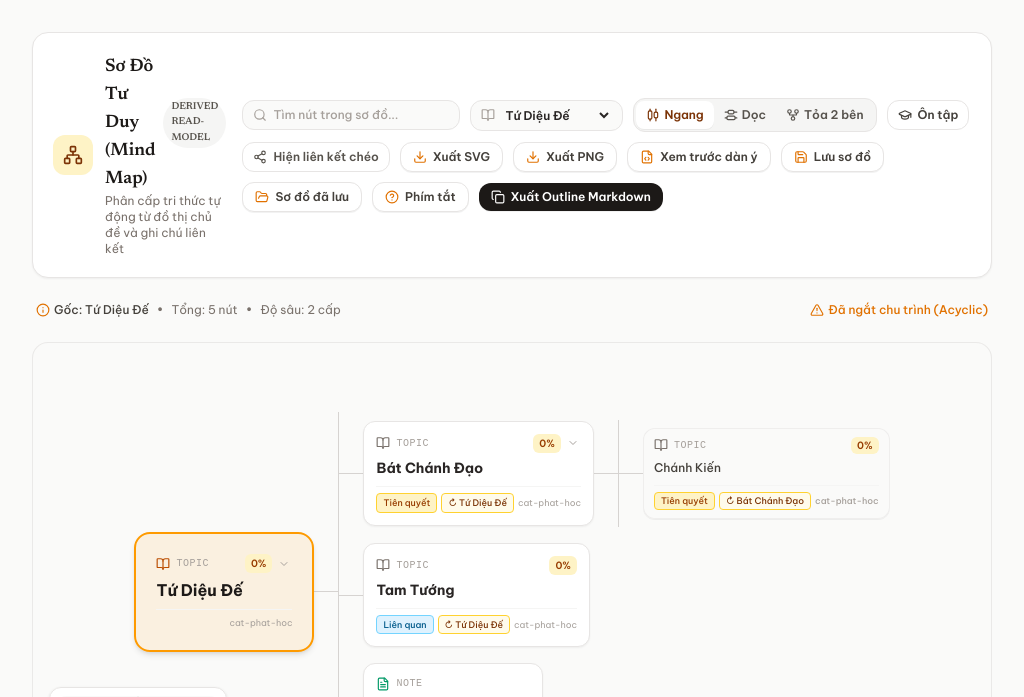
Mind Map Feature S1: In-Canvas Search & Node Highlight Filter › 2. MindMapView In-Canvas Search Toolbar & Highlight Lifecycle › Scenario 2.6: displays 0 kết quả and dims nodes safely when no nodes match the query
The width and height of the screenshot is (1024, 697).
Type "NonExistentTermXYZ" into the field with placeholder "Tìm nút trong sơ đồ..." at [361, 115], box [273,107,449,123]
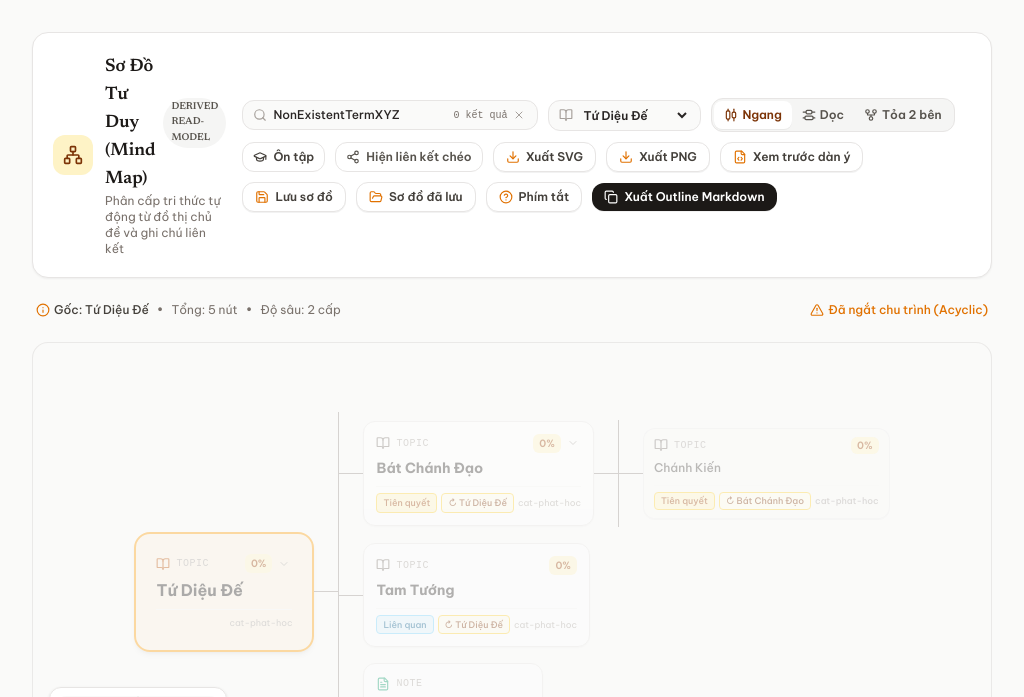
Check: the text "0 kết quả" is shown, box [453,108,507,122]
